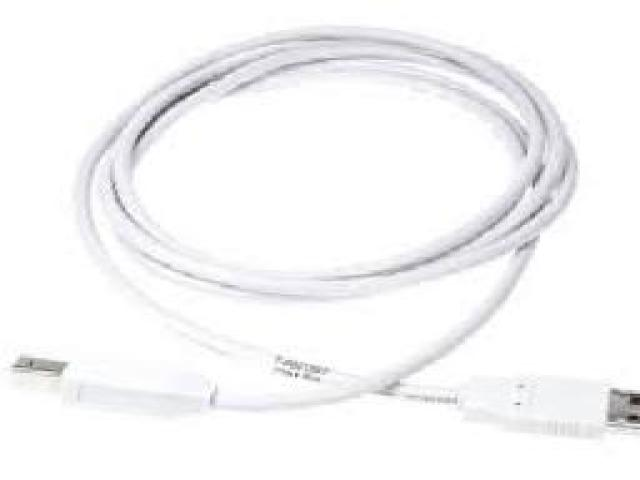wire: (12, 29, 640, 428)
